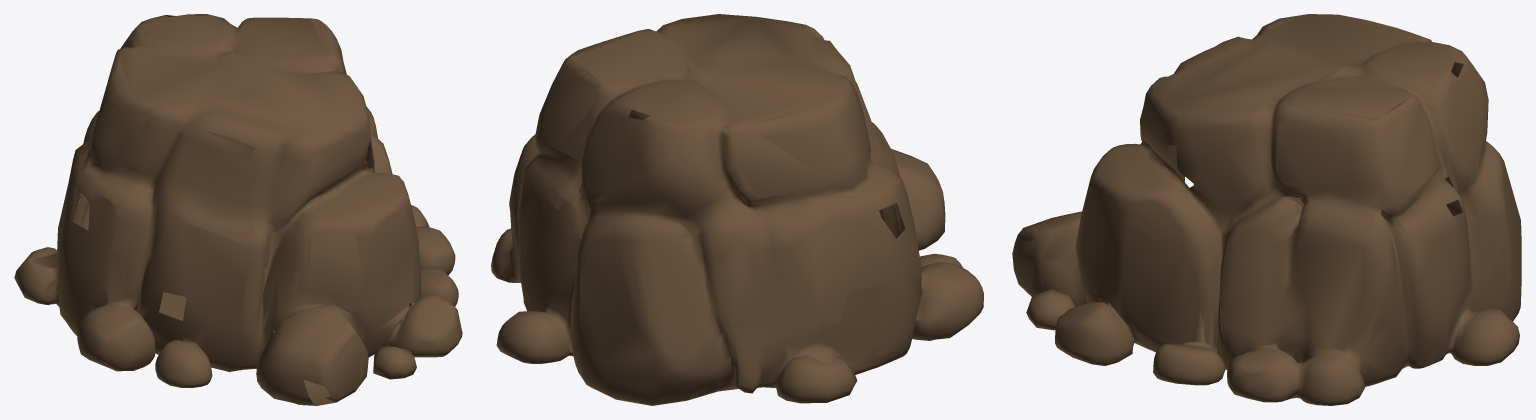
File: pila_de_rocas.glb
The picture shows the model from 3 angles, left to right: view 1: azimuth 30°, elevation 25°; view 2: azimuth 150°, elevation 25°; view 3: azimuth 270°, elevation 25°; orthographic projection. The views are drawn at different scales.
Visible parts, largest first — view 1: pila_de_rocas; view 2: pila_de_rocas; view 3: pila_de_rocas.
Boxes of the visible parts, x1,y1,x2,y2 form: pila_de_rocas: (14, 14, 462, 405); pila_de_rocas: (491, 14, 983, 405); pila_de_rocas: (1012, 14, 1521, 405).
Size of what is drawn, in the model's own units: 1.13 by 0.6623 by 1.2.
1 material, 1 textured.
